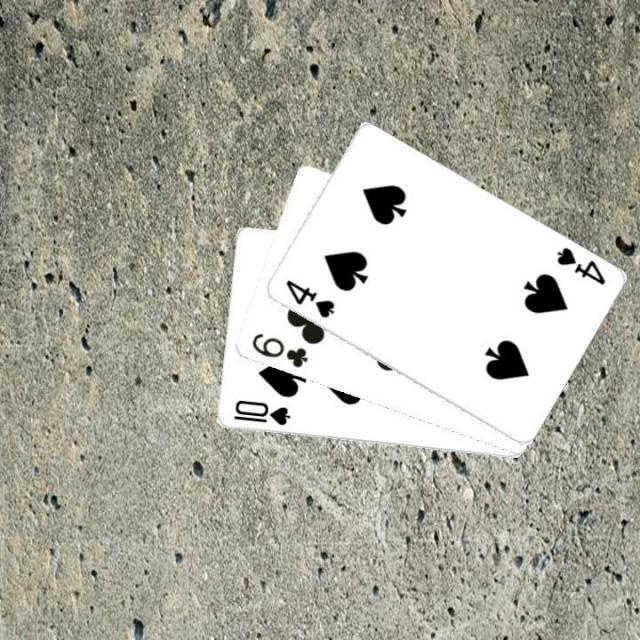10S: (230, 396, 292, 428)
4S: (281, 276, 336, 320), (552, 243, 606, 287)
6C: (247, 329, 309, 370)
